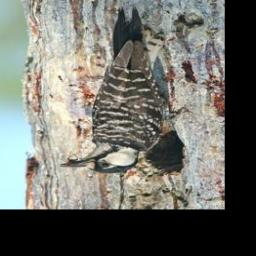Woodpecker: (58, 3, 192, 175)
